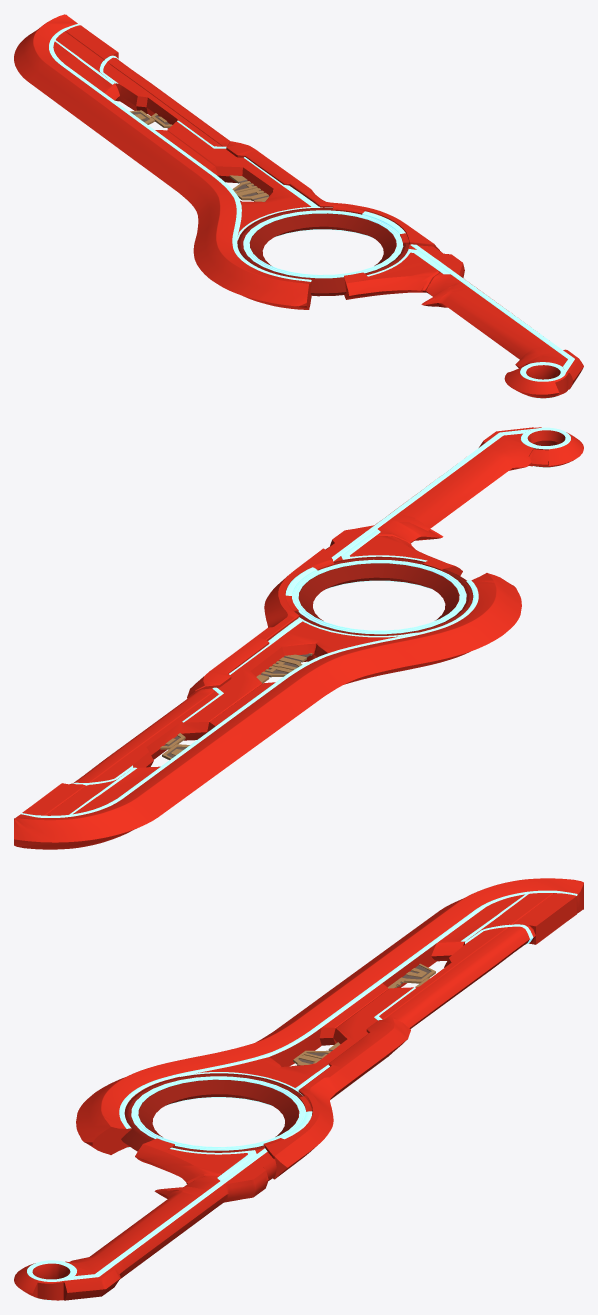
The model's file is Monado.fbx.
3 renders of one model, top to bottom at view 1: azimuth 30°, elevation 25°; view 2: azimuth 150°, elevation 25°; view 3: azimuth 330°, elevation 25°, orthographic. The views are drawn at different scales.
Visible parts, largest first — view 1: Main 1, Main 2, Handle, Middle, Main 1 glow, Middle-glow, Pummel, Handle glow, Main 2 glow, Bright 2; view 2: Main 1, Main 2, Handle, Middle, Main 1 glow, Middle-glow, Handle glow, Pummel, Main 2 glow, Bright 2; view 3: Main 1, Main 2, Handle, Middle, Main 1 glow, Middle-glow, Handle glow, Pummel, Main 2 glow.
Boxes of the visible parts, x1,y1,x2,y2 form: Main 1: (14, 14, 311, 309); Main 2: (103, 54, 439, 250); Handle: (344, 244, 583, 389); Middle: (237, 208, 409, 296); Main 1 glow: (49, 24, 311, 281); Middle-glow: (243, 210, 403, 278); Pummel: (504, 365, 568, 398); Handle glow: (367, 244, 574, 372); Main 2 glow: (99, 55, 405, 234); Bright 2: (151, 113, 268, 201); Main 1: (14, 573, 521, 849); Main 2: (70, 548, 334, 784); Handle: (311, 427, 535, 575); Middle: (295, 557, 473, 635); Main 1 glow: (21, 580, 478, 817); Middle-glow: (292, 559, 466, 634); Handle glow: (331, 428, 534, 561); Pummel: (527, 427, 583, 467); Main 2 glow: (72, 567, 331, 785); Bright 2: (160, 653, 312, 749); Main 1: (76, 878, 583, 1154); Main 2: (263, 924, 535, 1179); Handle: (62, 1138, 276, 1300); Middle: (121, 1074, 302, 1152); Main 1 glow: (119, 890, 577, 1147); Middle-glow: (131, 1076, 305, 1150); Handle glow: (62, 1147, 267, 1280); Pummel: (14, 1263, 70, 1300); Main 2 glow: (265, 924, 533, 1139).
Bounding box in the file's own units: 139 × 17.61 × 600.
